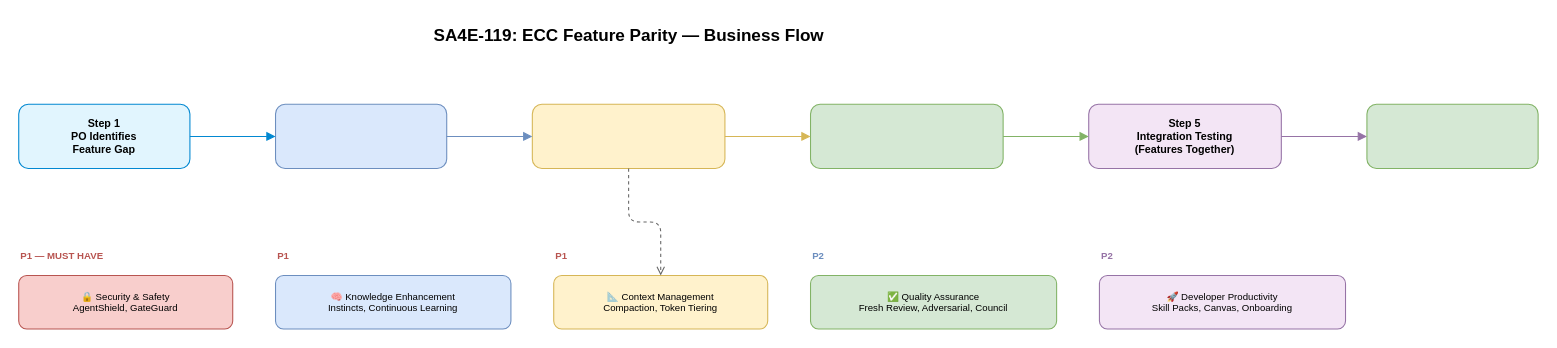
Image size: 1557x348. Some labels were removed from this diagram. Here are the shapes that lost their labels. From the top down, the centre of each, then its label:
At point 360,136: "Step 2 BA Analyzes ECC Reference Impl".
At point 628,136: "Step 3 Categorize Domains & Prioritize (P1/P2)".
At point 906,136: "Step 4 Implement Each Story (Full SDLC Pipeline)".
At point 1452,136: "Step 6 Progressive Rollout P1 → P2".
